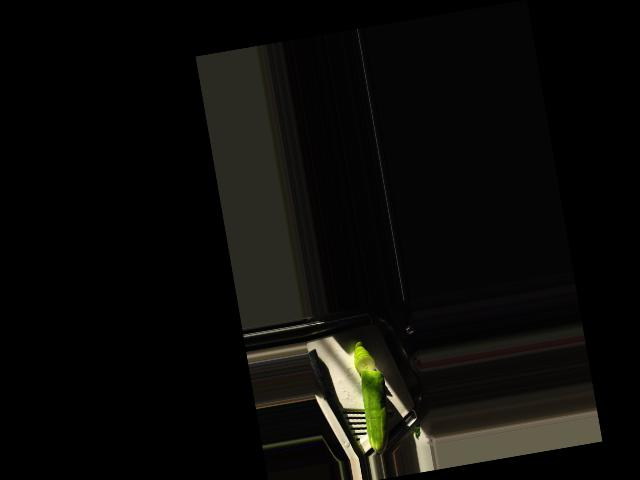cucumber: (356, 366, 395, 453)
